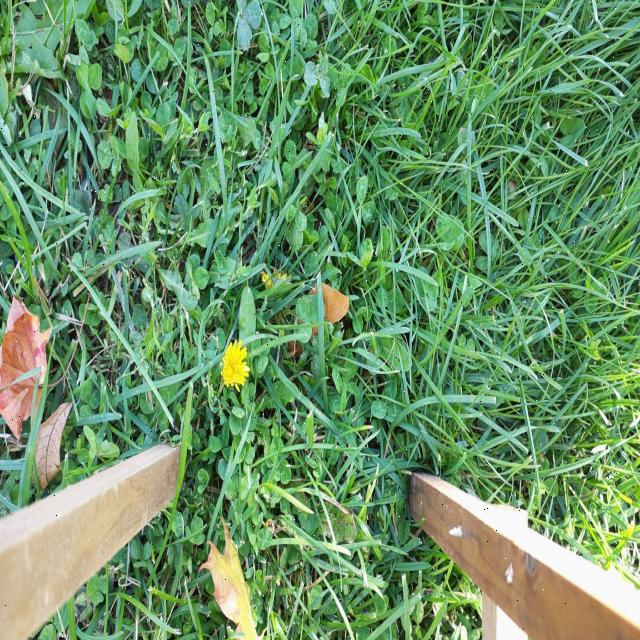dandelion: (0, 0, 640, 282)
